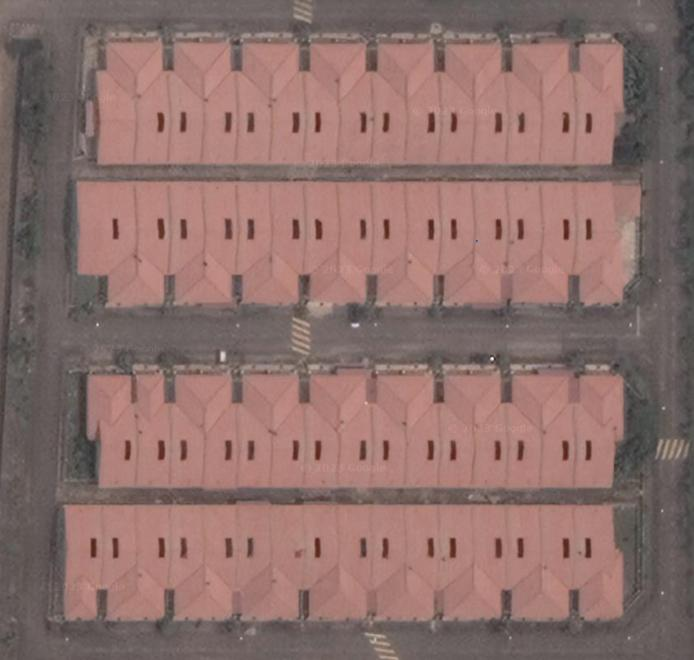building: (72, 178, 138, 306), (578, 179, 639, 305), (572, 40, 627, 165), (80, 41, 133, 170), (82, 372, 136, 488), (572, 504, 626, 619), (575, 374, 626, 489), (167, 178, 207, 306), (472, 365, 511, 495), (369, 372, 410, 493), (235, 180, 274, 306), (469, 181, 509, 303), (62, 505, 105, 618), (499, 505, 541, 620), (438, 180, 476, 306), (271, 179, 308, 306), (167, 39, 204, 166), (133, 40, 170, 167), (136, 178, 172, 307), (302, 502, 341, 621), (201, 178, 238, 303), (132, 373, 172, 488), (371, 503, 409, 623), (437, 506, 476, 622), (406, 182, 442, 307), (473, 40, 508, 166), (508, 180, 543, 305), (302, 374, 340, 489), (237, 371, 274, 489), (406, 369, 441, 493), (405, 42, 440, 166), (302, 43, 337, 167), (168, 377, 206, 490), (544, 179, 578, 305), (337, 182, 372, 304), (374, 180, 408, 305), (272, 370, 307, 491), (202, 37, 235, 165), (235, 42, 269, 166), (539, 44, 574, 164), (337, 41, 371, 164), (172, 507, 208, 623), (440, 373, 475, 492), (270, 41, 303, 167), (205, 374, 240, 492), (438, 44, 473, 162), (370, 42, 403, 167), (334, 369, 368, 490), (507, 44, 541, 164), (271, 505, 306, 618), (538, 507, 572, 621), (306, 181, 337, 306), (512, 370, 543, 494), (469, 506, 503, 619), (105, 503, 137, 622), (544, 368, 575, 490), (206, 506, 237, 623), (339, 506, 370, 623), (240, 503, 271, 619), (139, 507, 170, 620), (409, 506, 437, 621)
